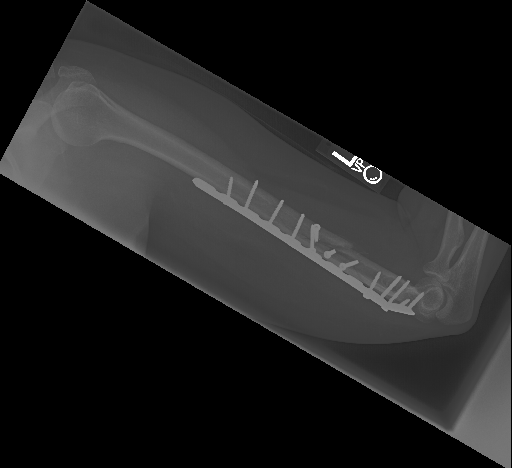implant: (192, 165, 359, 278), (356, 260, 423, 323)
